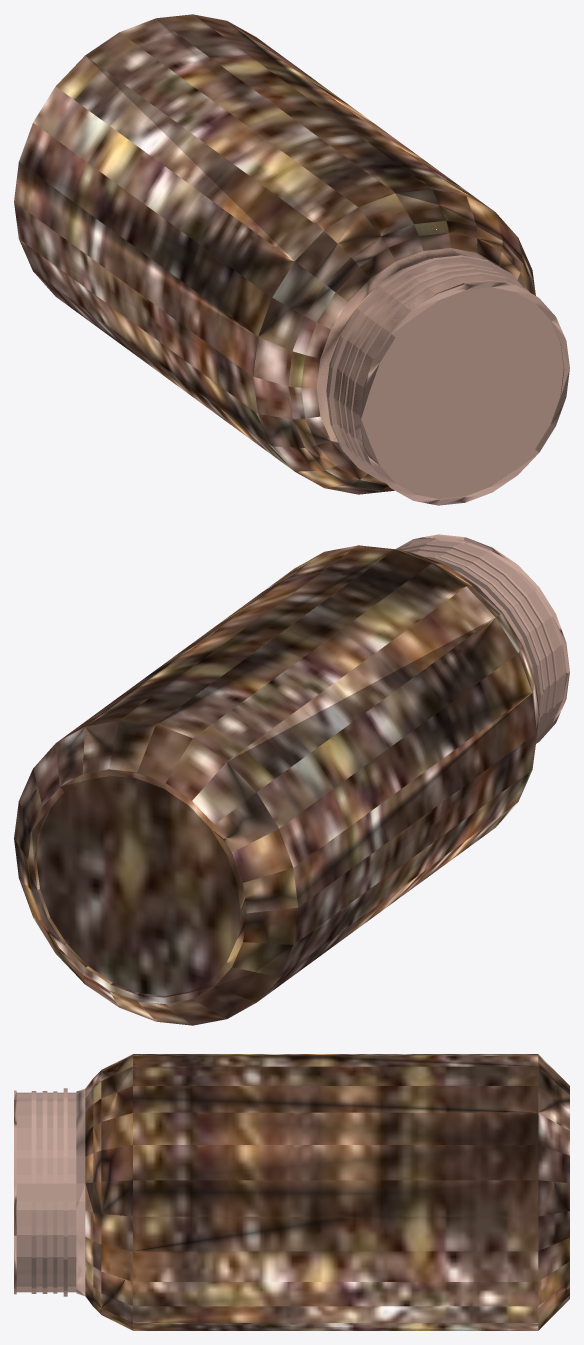
Rendered from model_align.obj.
3 renders of one model, top to bottom at view 1: azimuth 30°, elevation 25°; view 2: azimuth 150°, elevation 25°; view 3: azimuth 270°, elevation 25°, orthographic. The views are drawn at different scales.
Bounding box in the file's own units: 0.0906 × 0.0906 × 0.1812.
